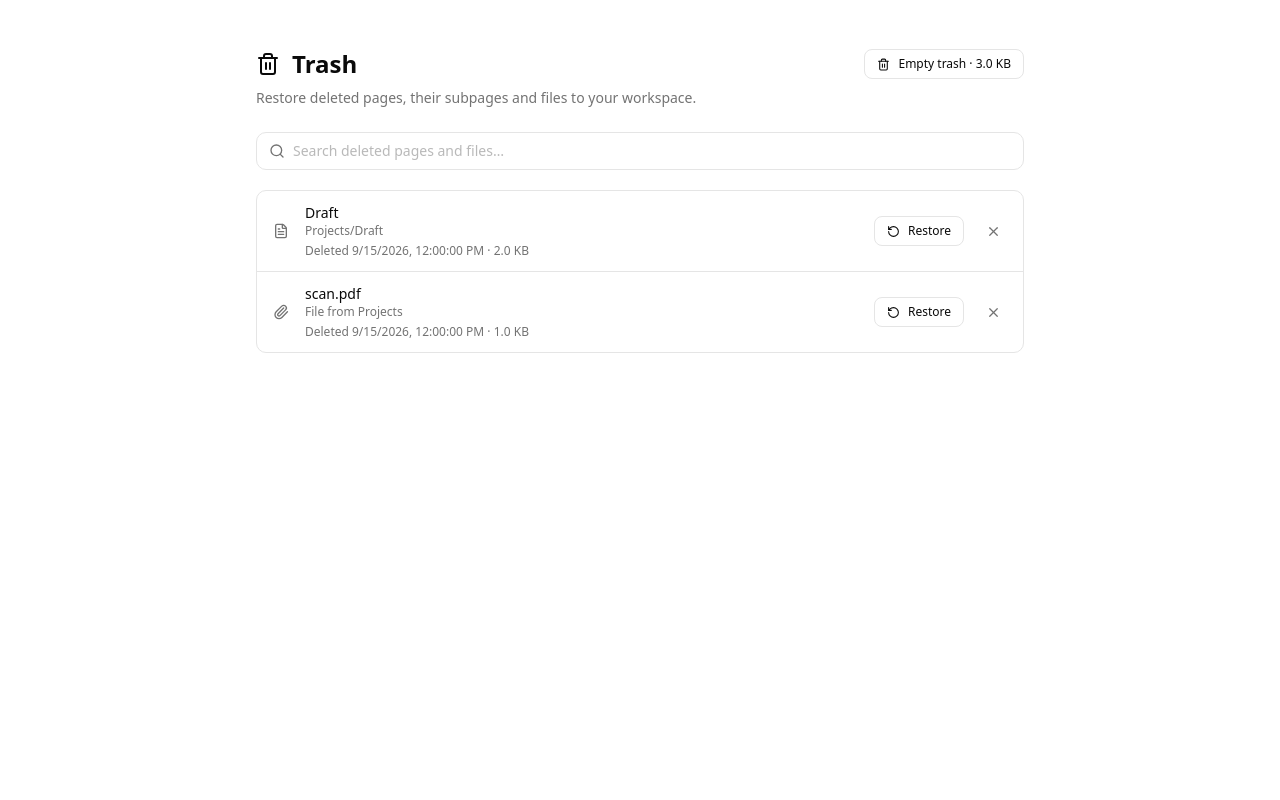
Test: empties the trash only after confirming, and deletes one entry for good
This screenshot has width=1280, height=800.
Expected: the text "Draft" is shown, [305, 203, 338, 222]
Step 1. Click the button named "Delete scan.pdf permanently" → (994, 312), box [980, 298, 1007, 326]
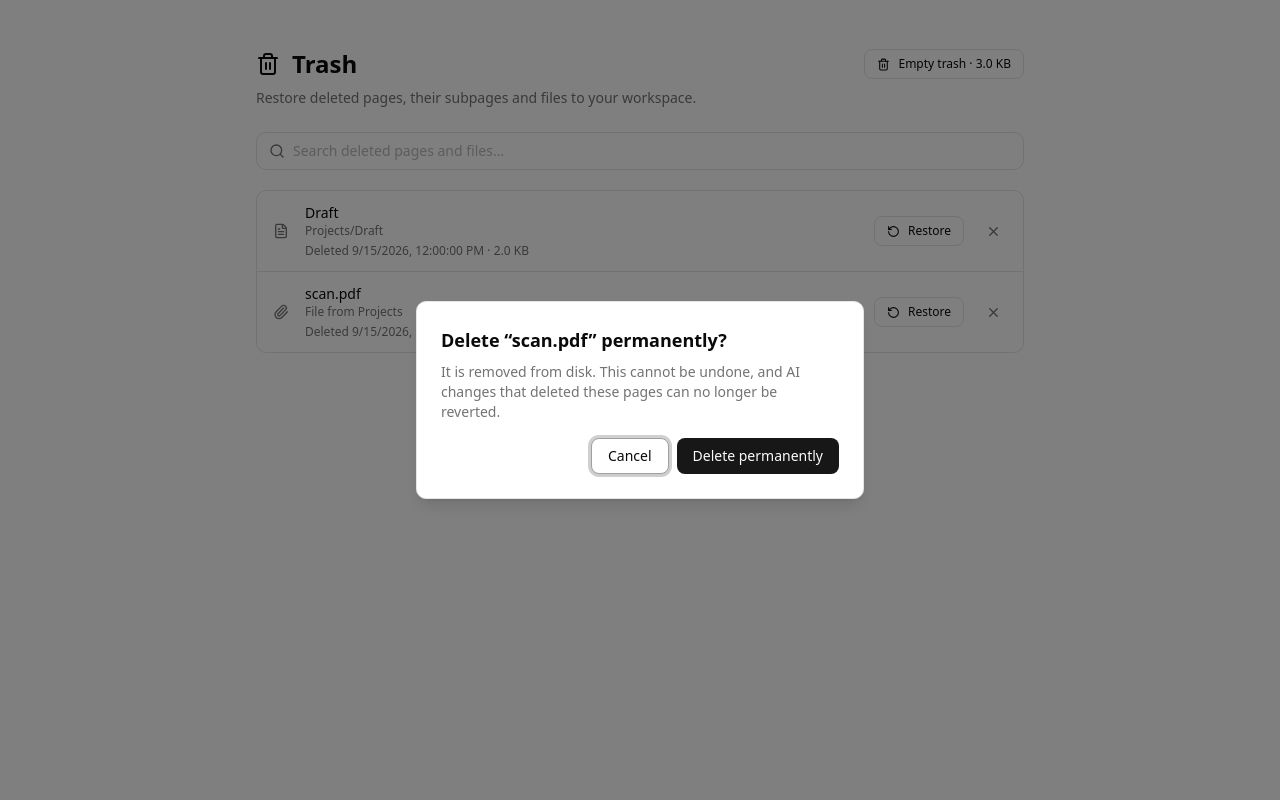
Step 2. Click the button "Delete permanently" → (758, 456), box [676, 438, 839, 474]
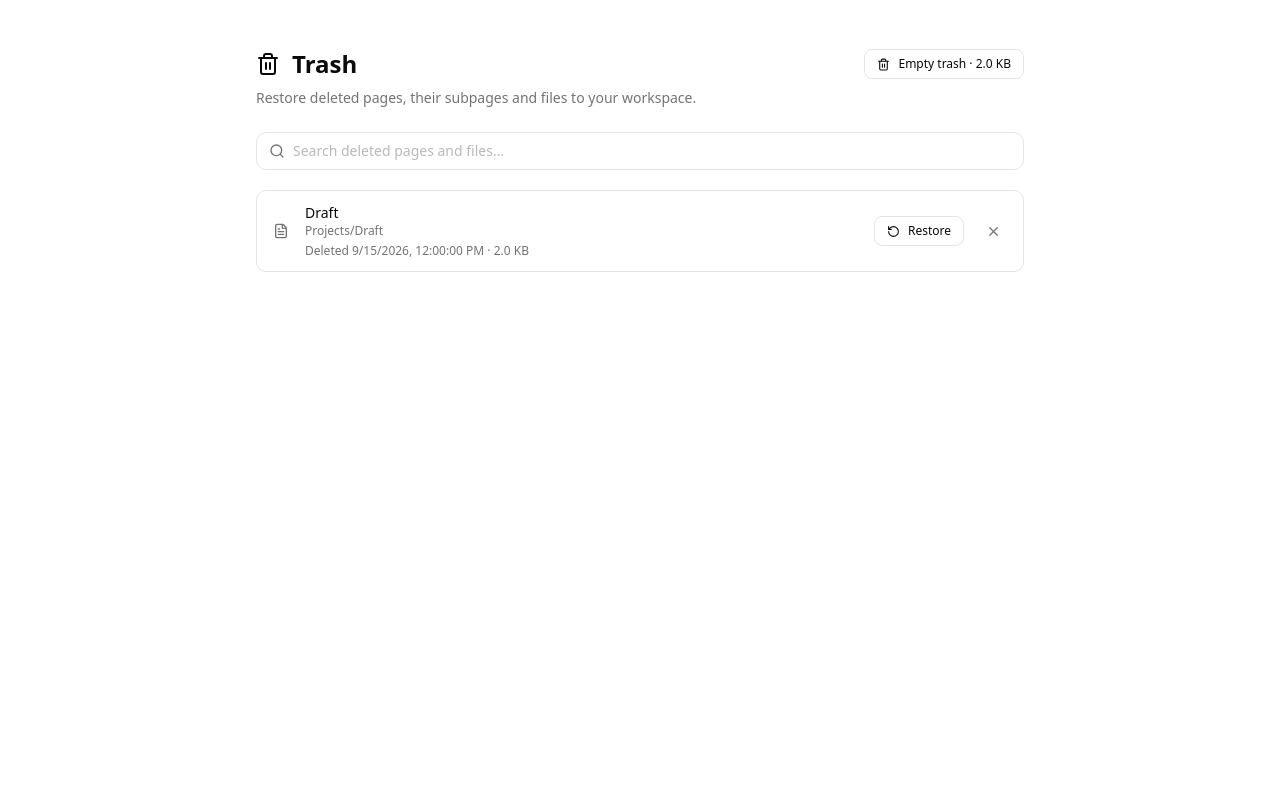
Expected: the text "scan.pdf" is gone
Step 3. Click the button "Empty trash · 2.0 KB" → (944, 64), box [864, 49, 1024, 79]
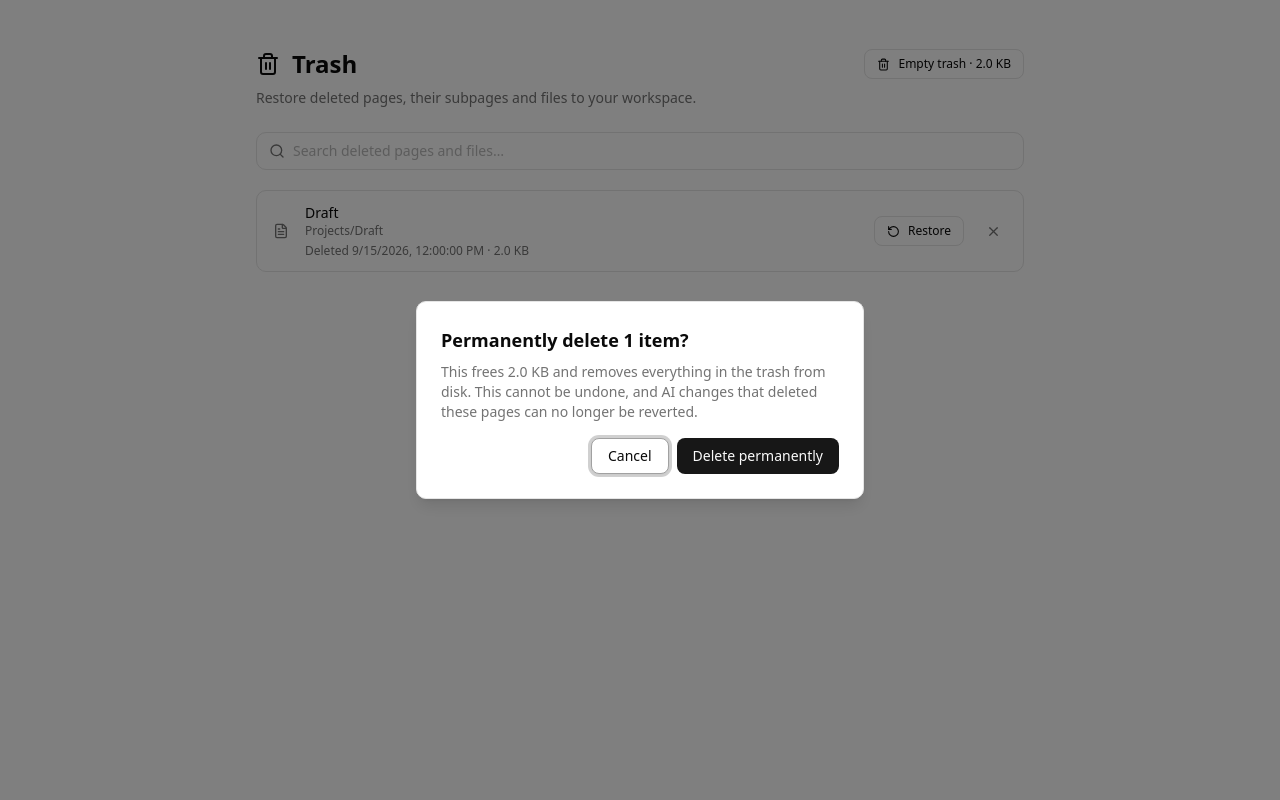
Expected: the text "cannot be undone" is shown, [441, 382, 817, 421]
Step 4. Click the button "Delete permanently" → (758, 456), box [676, 438, 839, 474]
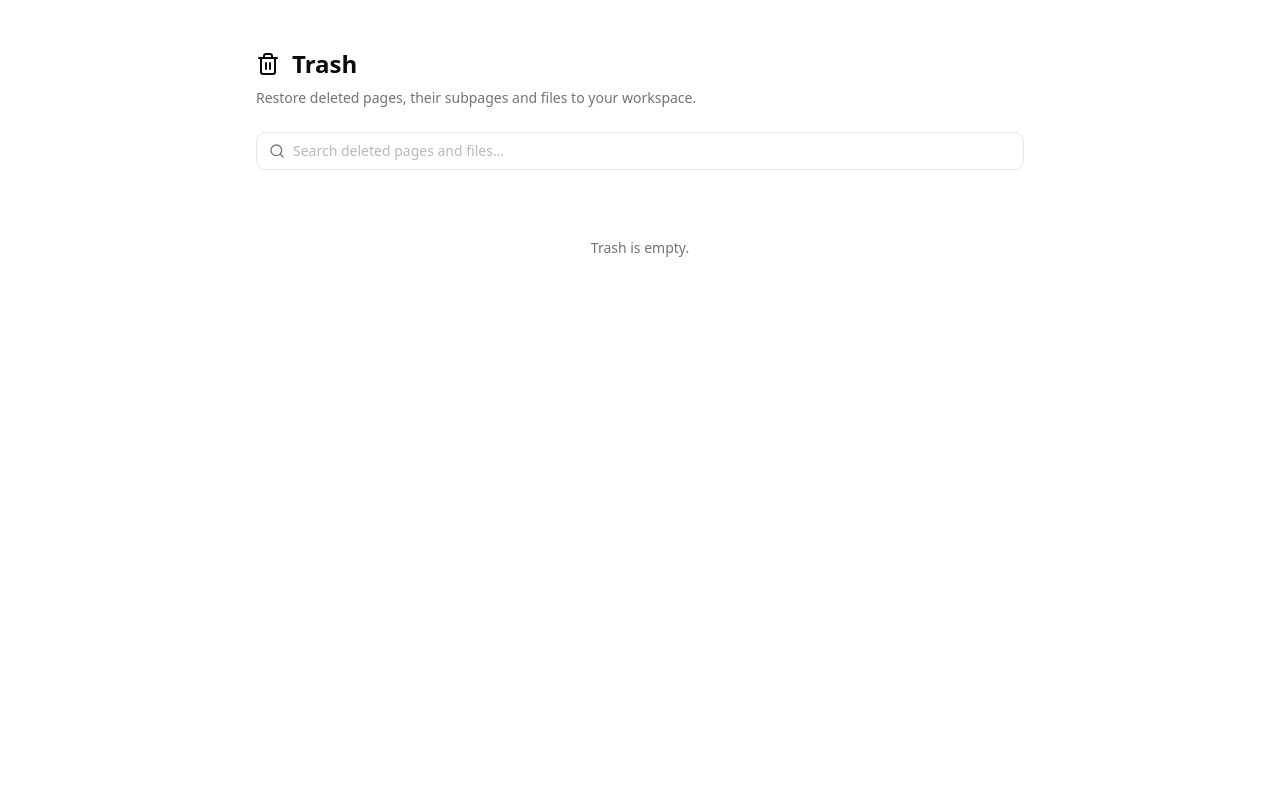
Expected: the text "Trash is empty." is shown, [591, 238, 689, 257]
